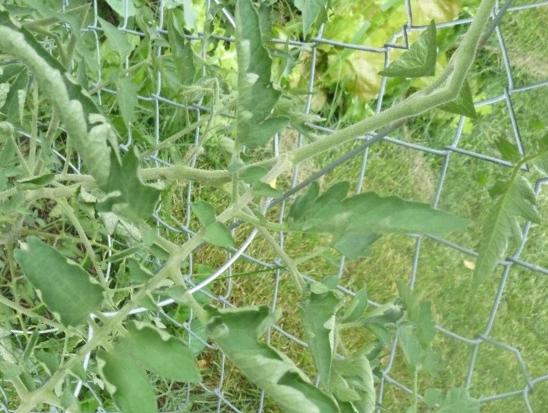Tomato mold leaf: (279, 120, 477, 318), (0, 50, 192, 245), (186, 279, 412, 413), (107, 297, 216, 406), (20, 223, 114, 318)
